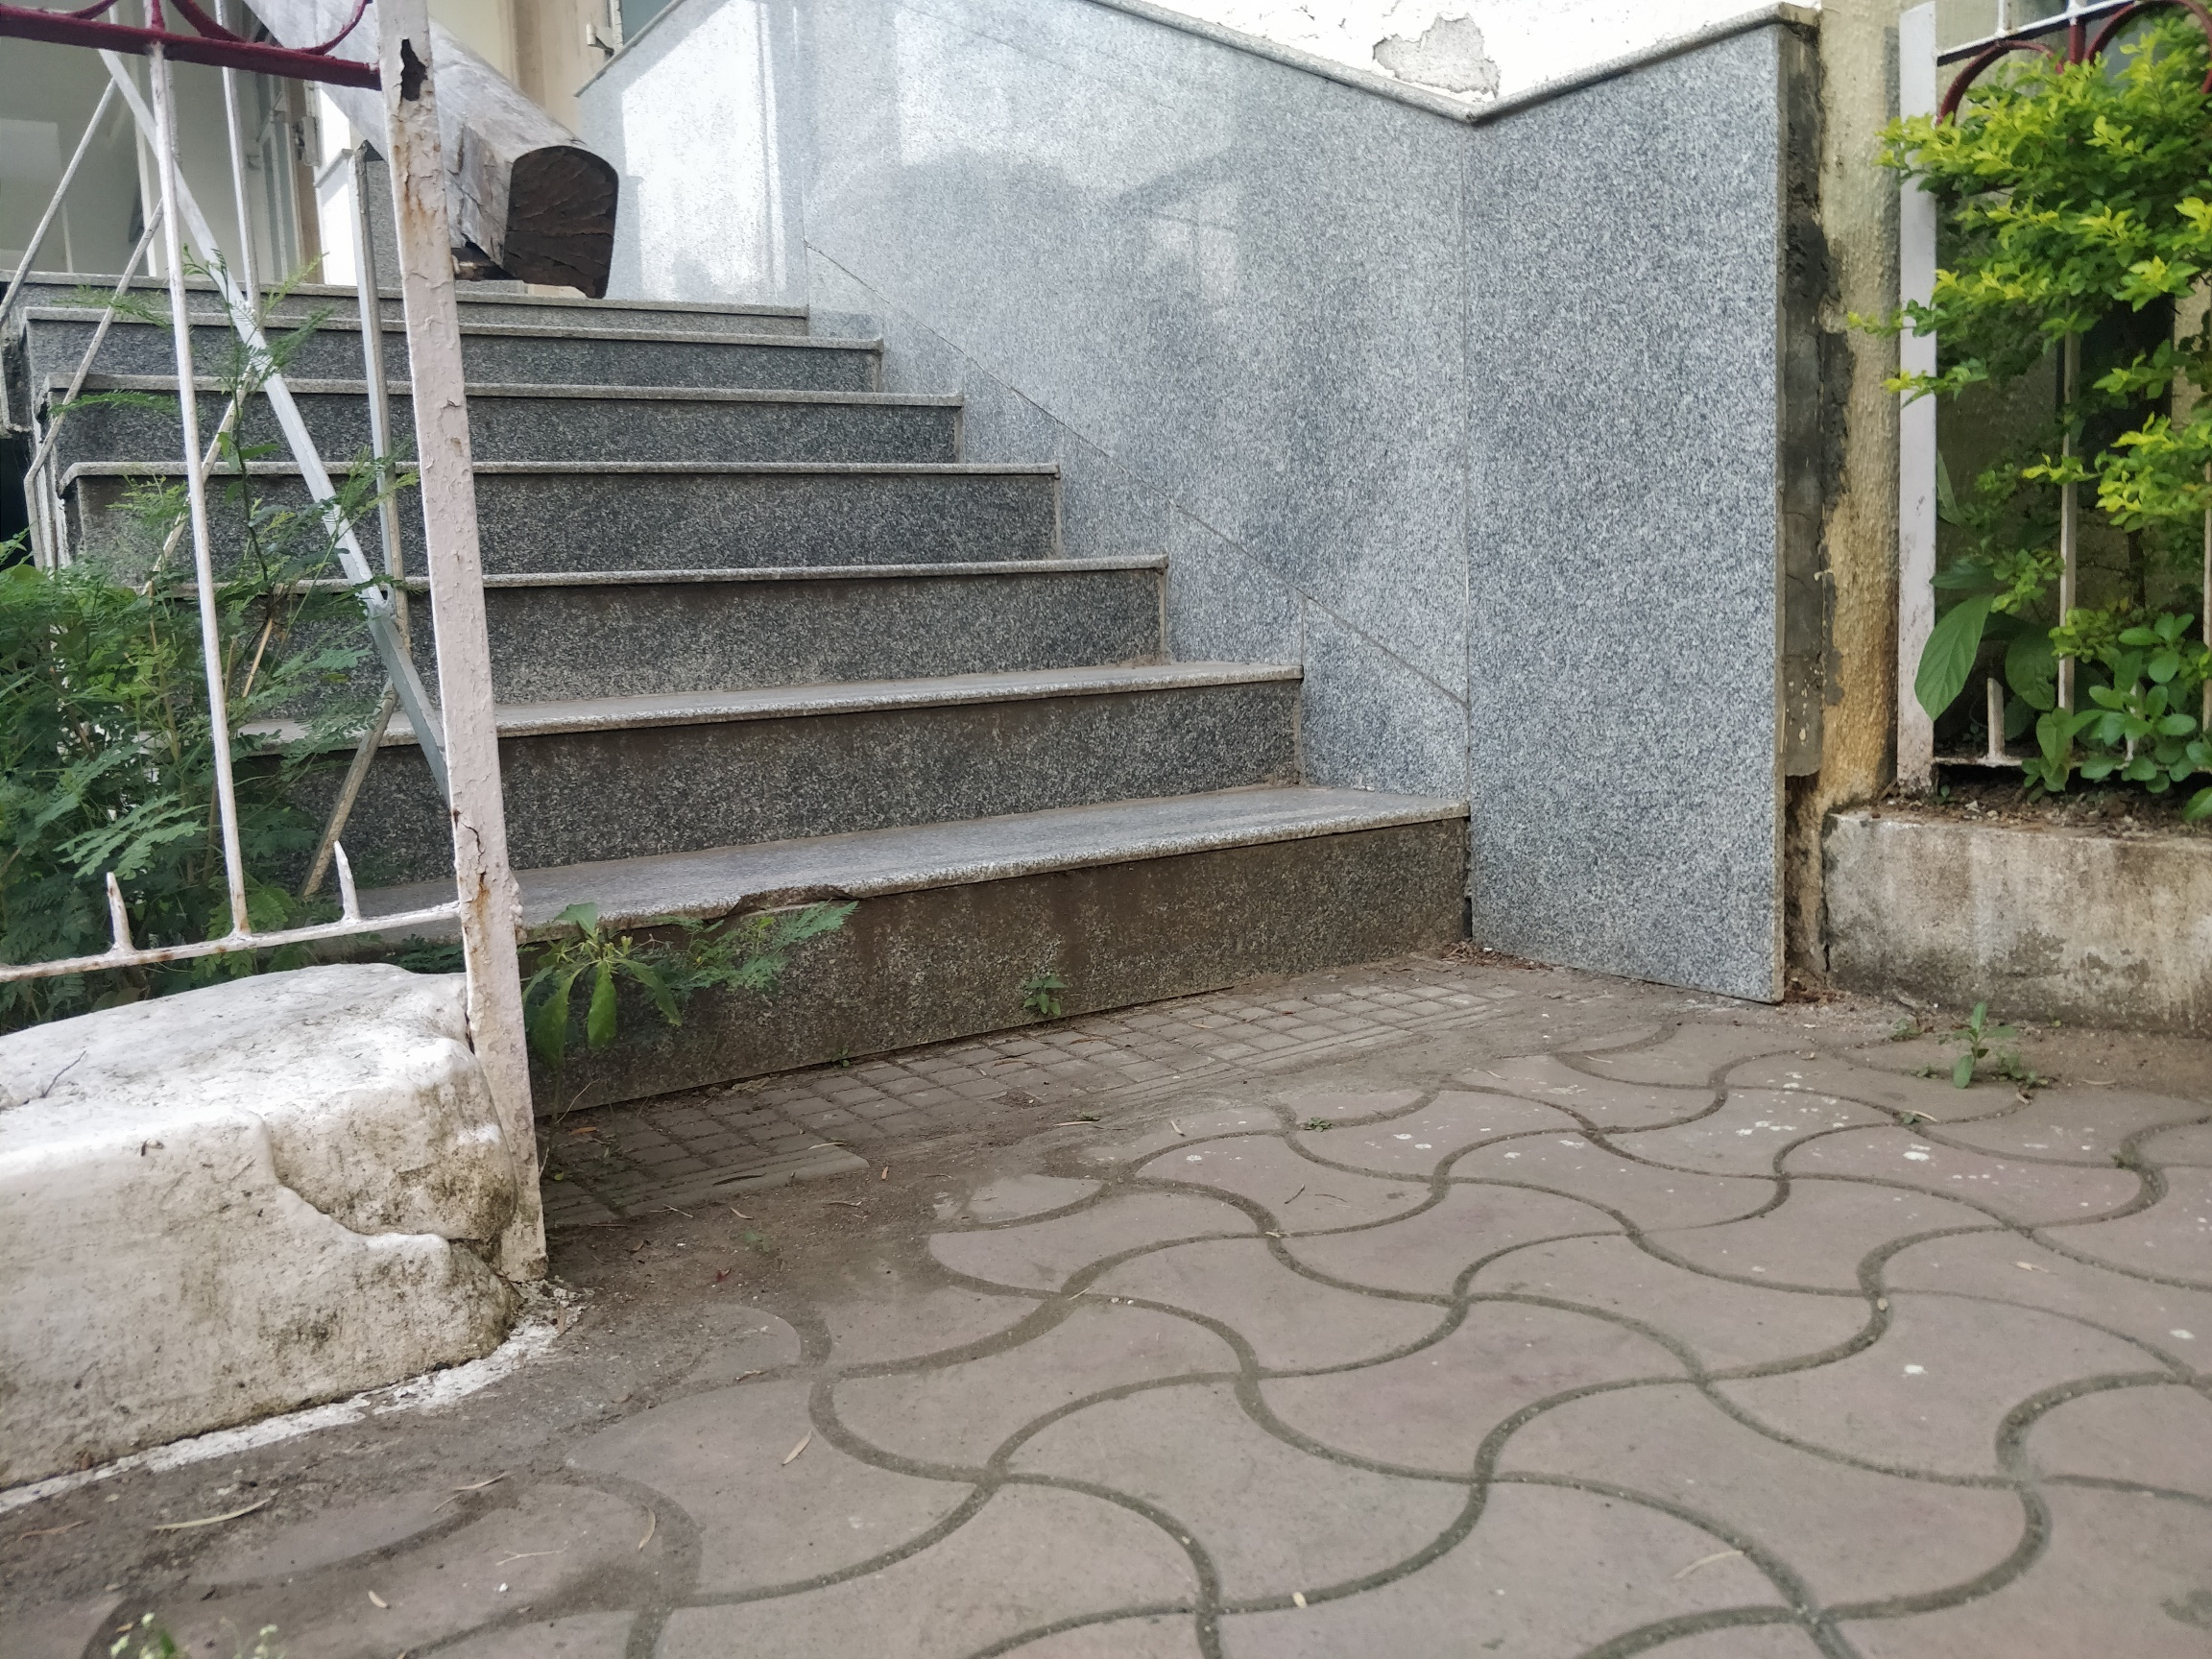stairs_up: (31, 239, 1541, 1077)
